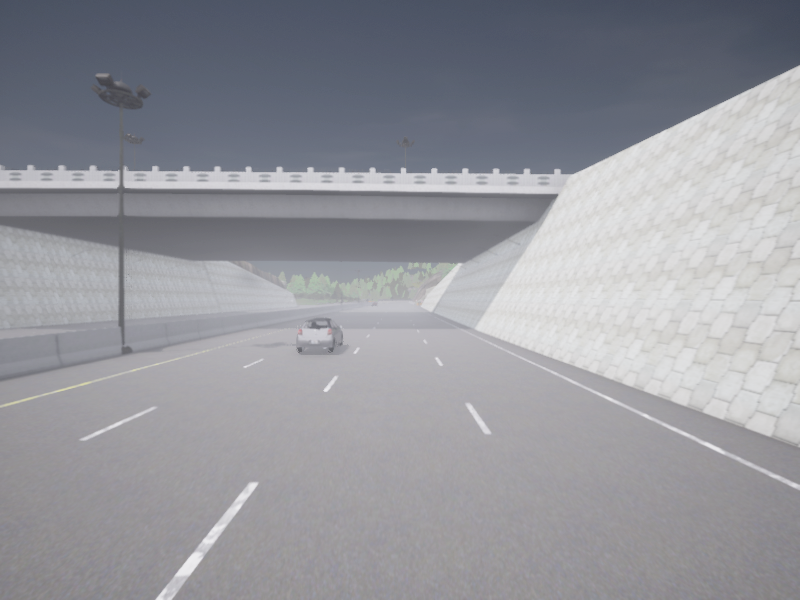vehicle: (296, 318, 342, 351), (372, 302, 377, 306)
